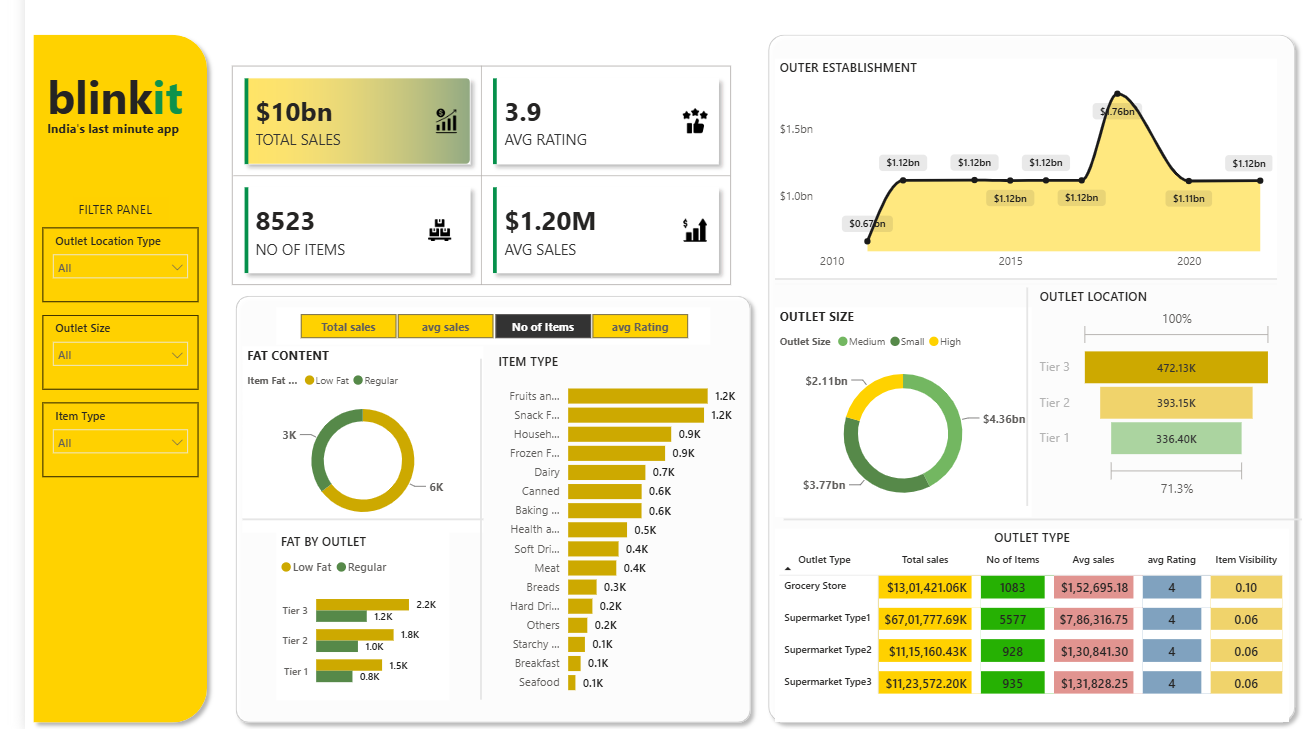

Layout of this report page (visuals, bound fields, positions):
{"tool":"powerbi","page":{"name":"Page 1","canvas":[1400,800],"ordinal":0},"visuals":[{"type":"shape","box":[0,44.3,204.3,755.7],"z":0},{"type":"textbox","box":[18.6,140,167.1,40],"z":1000},{"type":"textbox","box":[18.6,81.4,167.1,178.6],"z":2000},{"type":"cardVisual","fields":{"Data":["Sum(BlinkIT Grocery Data.Total sales)","BlinkIT Grocery Data.avg Rating","BlinkIT Grocery Data.No of Items","Sum(BlinkIT Grocery Data.avg sales)"]},"box":[205.7,70,570,270],"z":3000},{"type":"shape","box":[217.1,324.3,570,475.7],"z":4000},{"type":"slicer","fields":{"Values":["Metrics.Metrics"]},"box":[270,345.7,465.7,40],"z":5000},{"type":"donutChart","title":"FAT CONTENT","fields":{"Y":["BlinkIT Grocery Data.No of Items"],"Category":["BlinkIT Grocery Data.Item Fat Content"]},"box":[232.9,387.1,258.6,200],"z":6000},{"type":"clusteredBarChart","title":"FAT BY OUTLET","fields":{"Y":["BlinkIT Grocery Data.No of Items"],"Category":["BlinkIT Grocery Data.Outlet Location Type"],"Series":["BlinkIT Grocery Data.Item Fat Content"]},"box":[270,587.1,185.7,180],"z":7000},{"type":"shape","box":[232.9,562.9,258.6,20],"z":8000},{"type":"shape","box":[804.3,315.7,538.6,8.6],"z":9000},{"type":"shape","box":[362.9,401.4,251.4,365.7],"z":10000},{"type":"barChart","title":"ITEM TYPE","fields":{"Y":["BlinkIT Grocery Data.No of Items"],"Category":["BlinkIT Grocery Data.Item Type"]},"box":[502.9,394.3,267.1,375.7],"z":11000},{"type":"shape","box":[788.6,44.3,582.9,755.7],"z":12000},{"type":"lineChart","title":"OUTER ESTABLISHMENT","fields":{"Category":["BlinkIT Grocery Data.Outlet Establishment Year"],"Y":["Sum(BlinkIT Grocery Data.Total sales)"]},"box":[804.3,78.6,538.6,235.7],"z":13000},{"type":"shape","box":[804.3,311.4,538.6,8.6],"z":14000},{"type":"donutChart","title":"OUTLET SIZE","fields":{"Y":["Sum(BlinkIT Grocery Data.Total sales)"],"Category":["BlinkIT Grocery Data.Outlet Size"]},"box":[804.3,345.7,275,225],"z":15000},{"type":"shape","box":[948.6,324.3,251.4,234.3],"z":16000},{"type":"funnel","title":"OUTLET LOCATION","fields":{"Y":["Sum(BlinkIT Grocery Data.Sales)"],"Category":["BlinkIT Grocery Data.Outlet Location Type"]},"box":[1082.9,324.3,260,230],"z":17000},{"type":"shape","box":[814.3,561.4,555.7,22.9],"z":18000},{"type":"pivotTable","title":"OUTLET TYPE","fields":{"Rows":["BlinkIT Grocery Data.Outlet Type"],"Values":["Sum(BlinkIT Grocery Data.Total sales)","BlinkIT Grocery Data.No of Items","Sum(BlinkIT Grocery Data.avg sales)","BlinkIT Grocery Data.avg Rating","Avg(BlinkIT Grocery Data.Item Visibility)"]},"box":[804.3,582.9,551.4,207.1],"z":19000},{"type":"slicer","fields":{"Values":["BlinkIT Grocery Data.Outlet Location Type"]},"box":[18.6,260,167.1,80],"z":20000},{"type":"slicer","fields":{"Values":["BlinkIT Grocery Data.Outlet Size"]},"box":[18.6,354.3,167.1,80],"z":21000},{"type":"slicer","fields":{"Values":["BlinkIT Grocery Data.Item Type"]},"box":[18.6,447.1,167.1,80],"z":22000},{"type":"textbox","box":[52.9,227.1,101.4,32.9],"z":23000}]}

Visuals, with their boxes on the page's 1400x800 design canvas (x1, y1, x2, y2). These are canvas units, not pixel positions in the 1315x729 screenshot, which may show the page scaled, cropped or inside an application window:
shape: l=0, t=44, r=204, b=800
textbox: l=19, t=140, r=186, b=180
textbox: l=19, t=81, r=186, b=260
cardVisual - Sum(BlinkIT Grocery Data.Total sales) x BlinkIT Grocery Data.avg Rating: l=206, t=70, r=776, b=340
shape: l=217, t=324, r=787, b=800
slicer - Metrics.Metrics: l=270, t=346, r=736, b=386
"FAT CONTENT" donutChart: l=233, t=387, r=492, b=587
"FAT BY OUTLET" clusteredBarChart: l=270, t=587, r=456, b=767
shape: l=233, t=563, r=492, b=583
shape: l=804, t=316, r=1343, b=324
shape: l=363, t=401, r=614, b=767
"ITEM TYPE" barChart: l=503, t=394, r=770, b=770
shape: l=789, t=44, r=1372, b=800
"OUTER ESTABLISHMENT" lineChart: l=804, t=79, r=1343, b=314
shape: l=804, t=311, r=1343, b=320
"OUTLET SIZE" donutChart: l=804, t=346, r=1079, b=571
shape: l=949, t=324, r=1200, b=559
"OUTLET LOCATION" funnel: l=1083, t=324, r=1343, b=554
shape: l=814, t=561, r=1370, b=584
"OUTLET TYPE" pivotTable: l=804, t=583, r=1356, b=790
slicer - BlinkIT Grocery Data.Outlet Location Type: l=19, t=260, r=186, b=340
slicer - BlinkIT Grocery Data.Outlet Size: l=19, t=354, r=186, b=434
slicer - BlinkIT Grocery Data.Item Type: l=19, t=447, r=186, b=527
textbox: l=53, t=227, r=154, b=260
